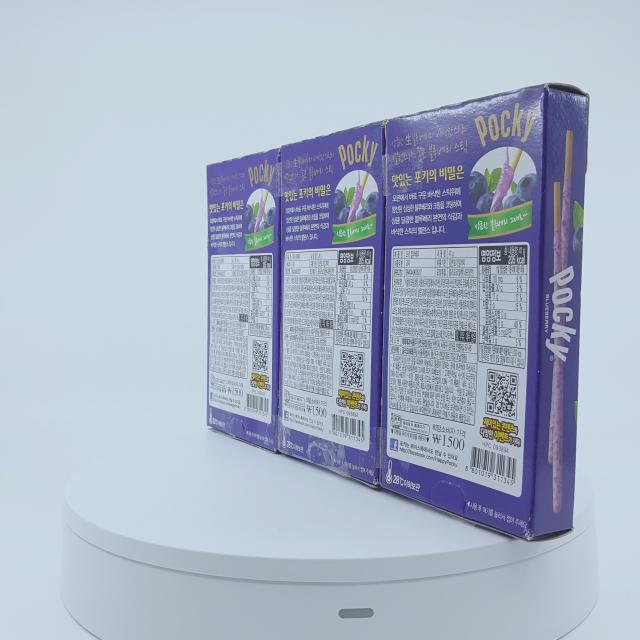-41G: (380, 84, 591, 544), (278, 122, 421, 490), (207, 148, 303, 455)
